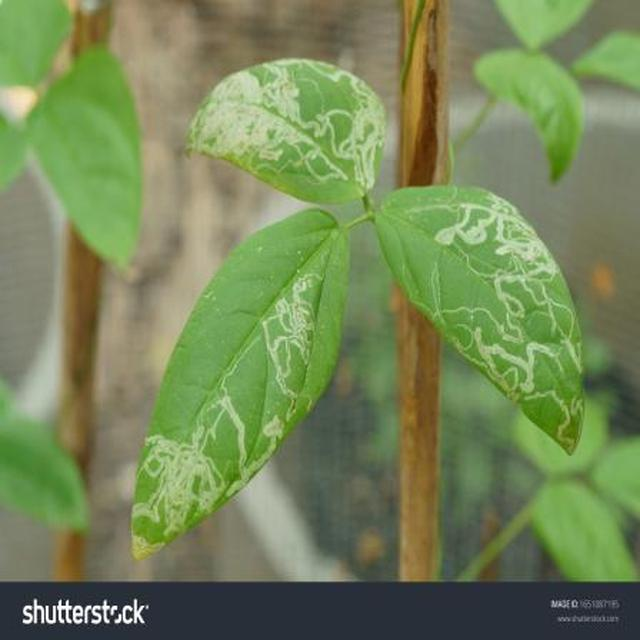Leaf Miner: (293, 186, 640, 551)
